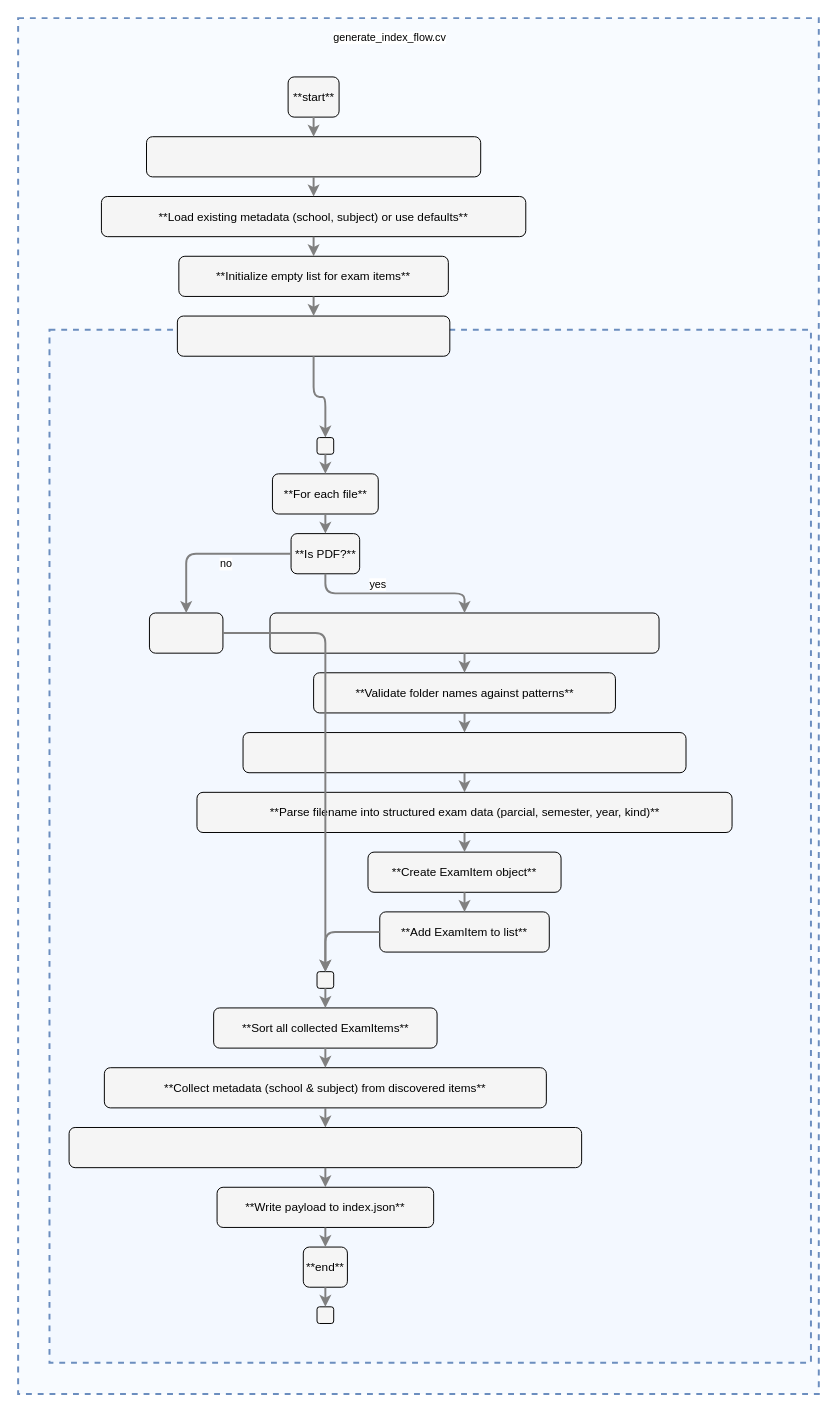
Some shapes in this 836 by 1411 pixel diagram are drawn without their labels. Each missing label, with the centre of its shape:
"**Construct final payload object (generatedAt, total, metadata, items)**" goes at [325,1147].
"**Initialize constants and regular expressions**" goes at [313,156].
"**Load subject metadata to check 'isCoordinated' consistency**" goes at [464,752].
"**Recursively walk 'exams/' directory**" goes at [313,335].
"**Skip file**" goes at [185,632].
"**Validate path segments (school, subject, professor)**" goes at [464,632].
